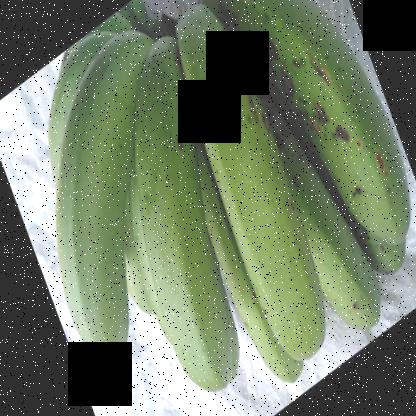unripe: (178, 7, 334, 368), (222, 1, 415, 236), (134, 36, 234, 414), (49, 15, 140, 373)
